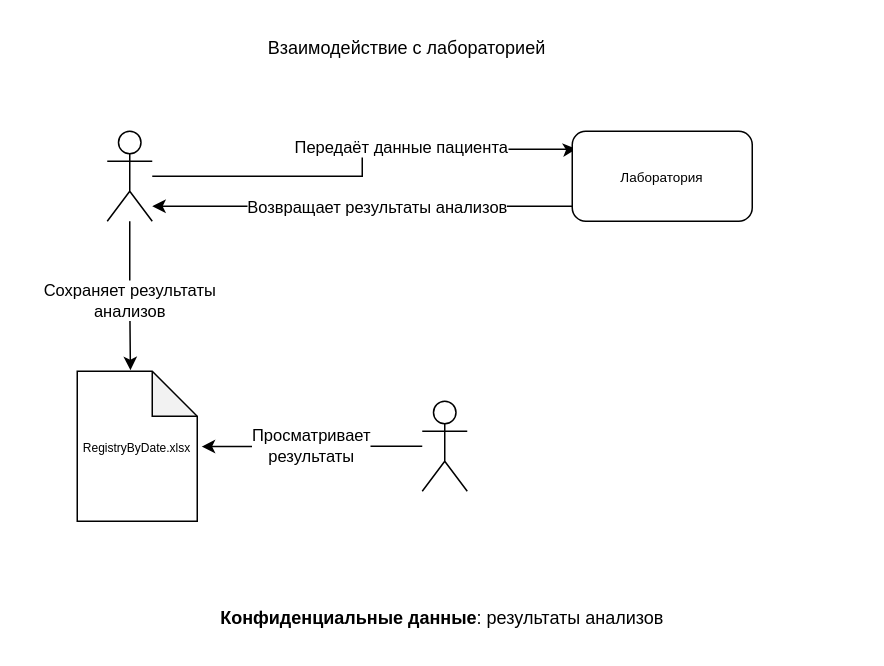
Image size: 884x666. Some labels were removed from this diagram. The box of each missing label's shape, as (x1, y1, x2, y2) in pixels:
Врач: (421, 400, 467, 491)
Медсестра: (106, 130, 152, 221)
